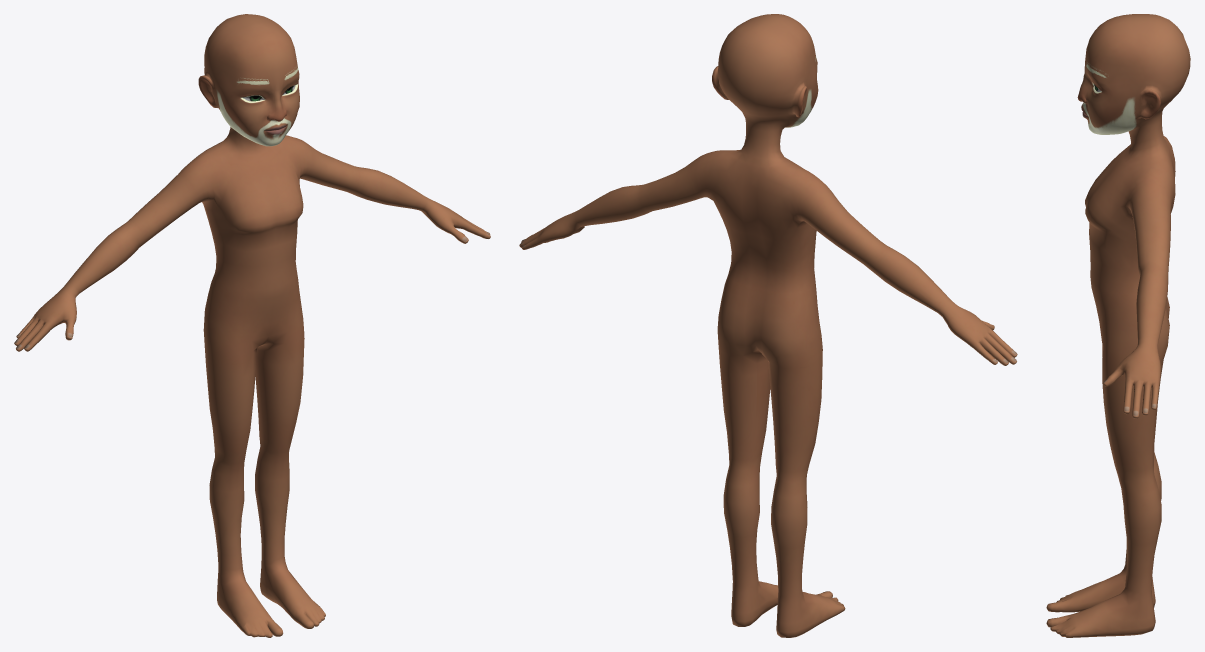
The model's file is frame_0094.glb.
3 views of the same model, side by side, from view 1: azimuth 30°, elevation 25°; view 2: azimuth 150°, elevation 25°; view 3: azimuth 270°, elevation 25° (orthographic). The views are drawn at different scales.
Parts seen in each view (by area): view 1: frame_0094_head_geo; view 2: frame_0094_head_geo; view 3: frame_0094_head_geo.
Boxes of the visible parts, <box> form: frame_0094_head_geo: <box>14,14,490,637</box>; frame_0094_head_geo: <box>519,14,1017,637</box>; frame_0094_head_geo: <box>1046,14,1190,637</box>.
Size of the model in its own units: 1.28 by 1.5 by 0.3253.
3 materials, 3 textured.
